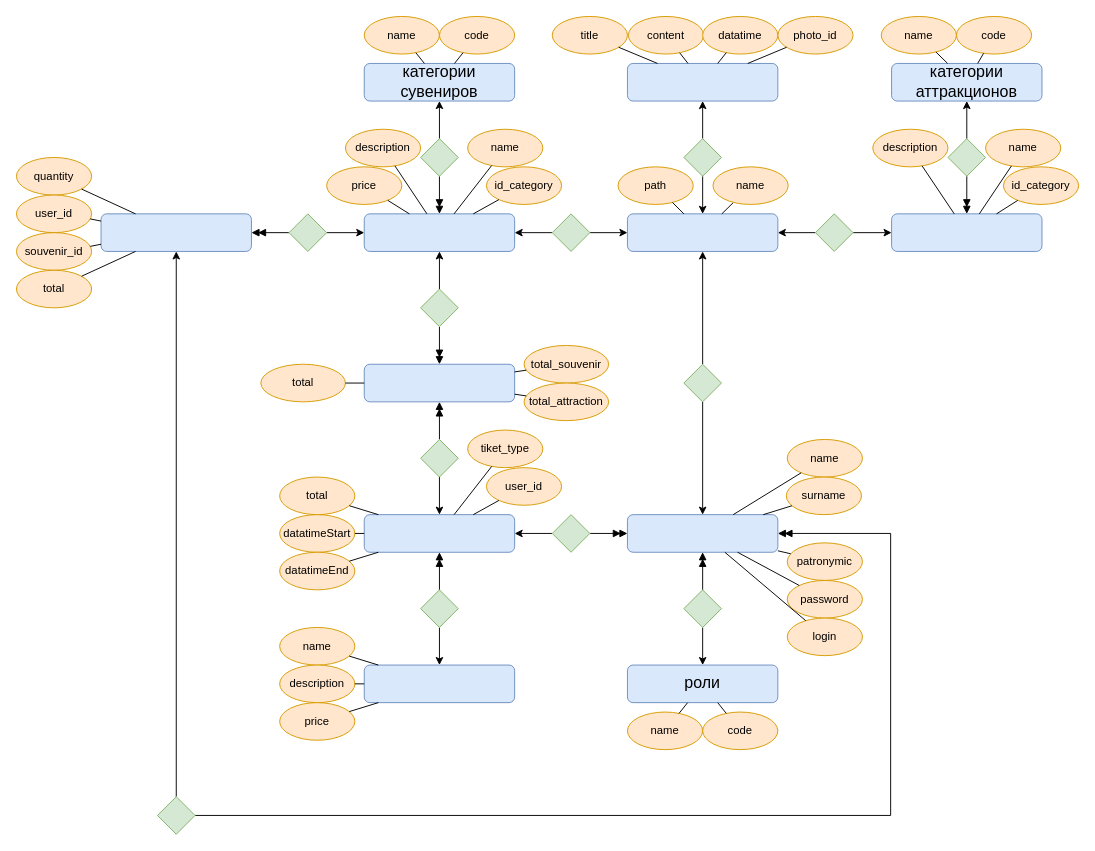
This 1095x851 diagram has some shape labels left out. The shapes that lost their labels are listed below. From the top down, each one's centre as x and y in pixels, then its label:
At (702,82): "новости".
At (175,232): "корзина".
At (439,232): "сувениры".
At (702,232): "фото".
At (966,232): "аттракционы".
At (439,382): "статистика доходов".
At (439,533): "билеты".
At (702,533): "пользователи".
At (439,683): "Тип_билета".
